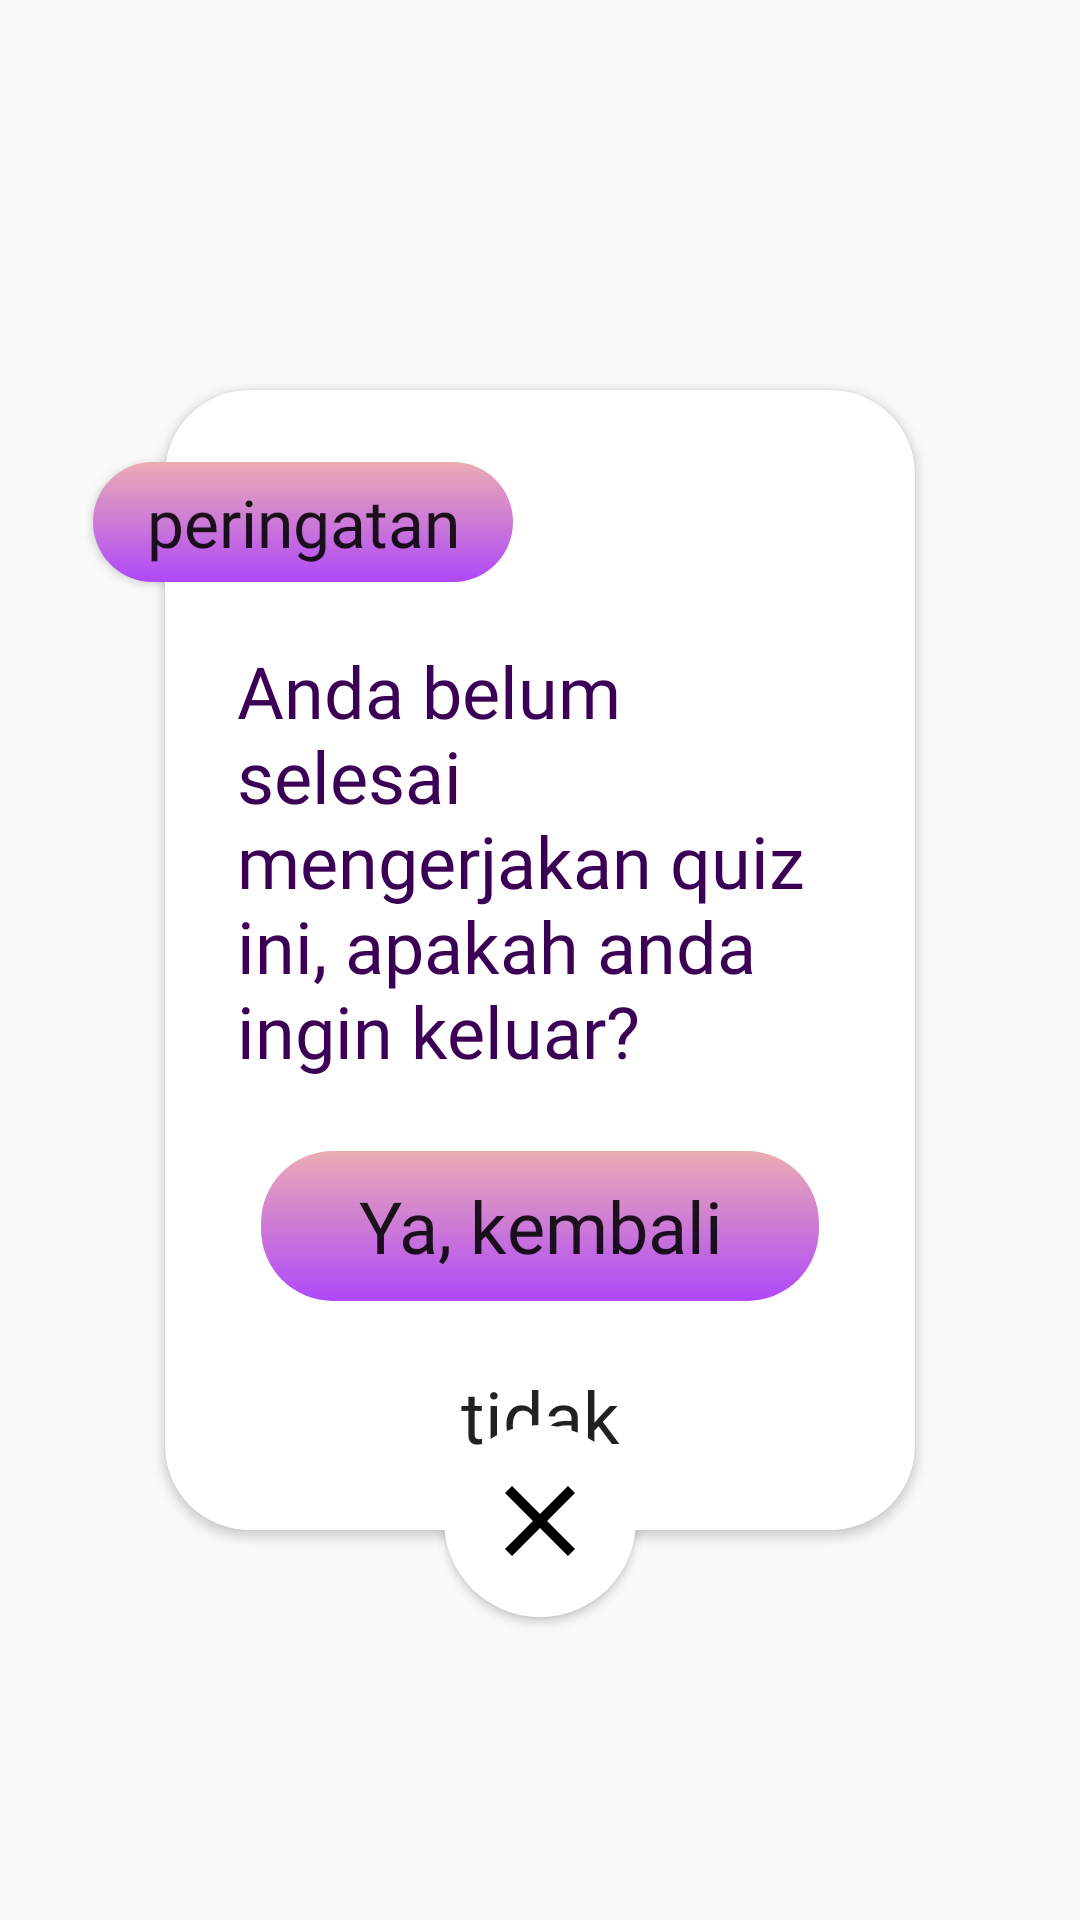

Icon bounding boxes for this 1080px x 1920px phone screenshot, format (x1, y1, x2, y2):
closepopup: (505, 1486, 575, 1556)
